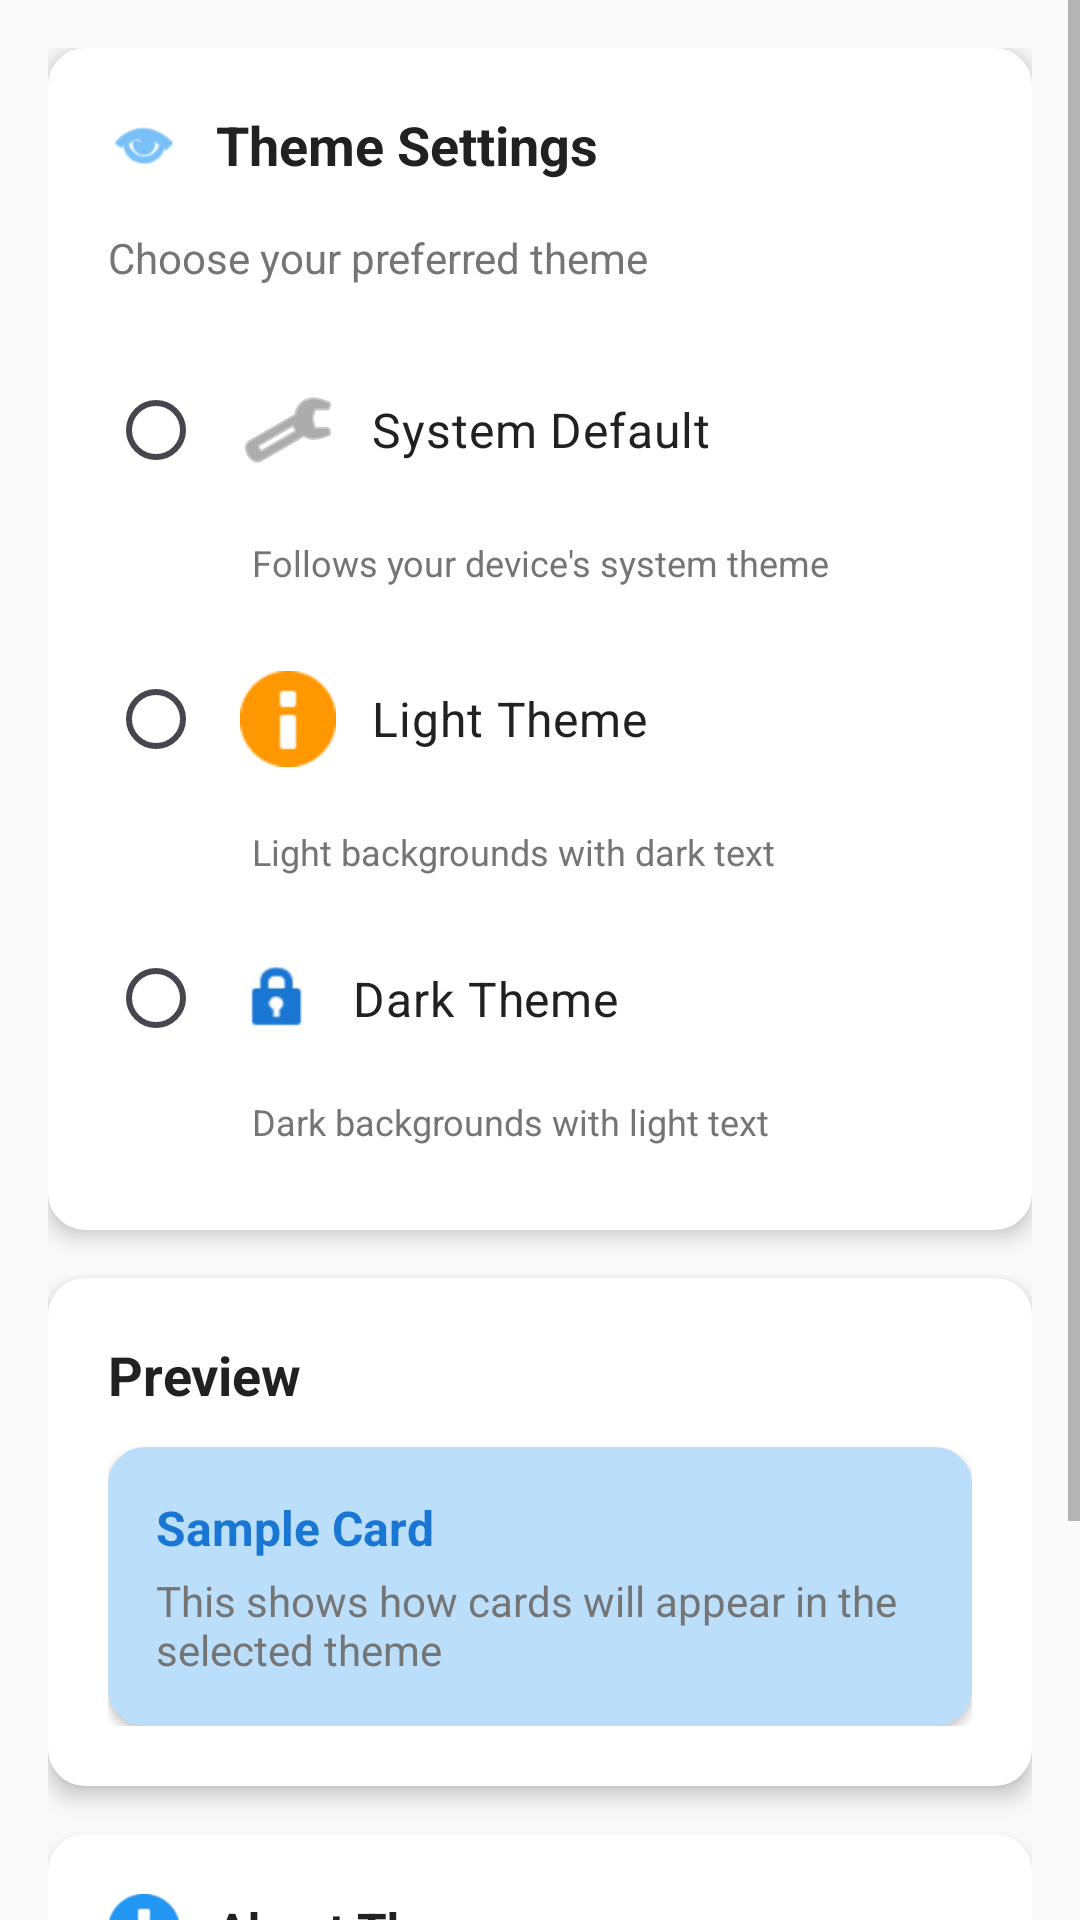

Named icons in this screenshot (1080px×1920px) and their bounding boxes, (x1, y1, x2, y2):
view: (115, 127, 173, 164)
